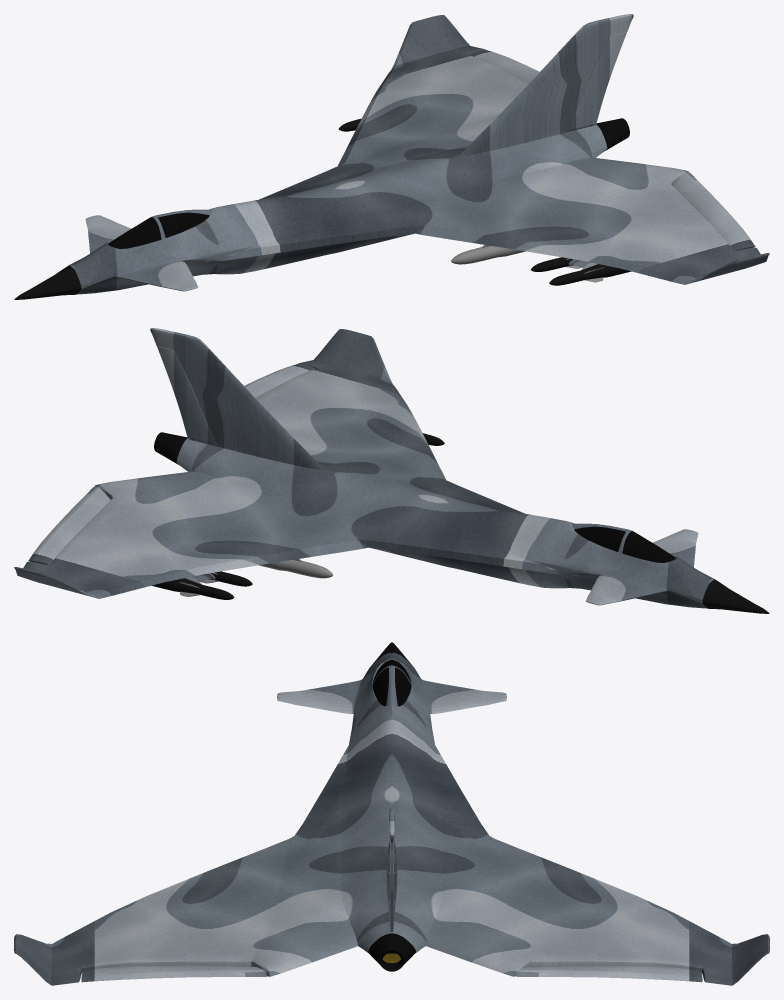
The model's file is mergedjet.obj.
3 views of the same model, one above another, from view 1: azimuth 30°, elevation 25°; view 2: azimuth 150°, elevation 25°; view 3: azimuth 270°, elevation 25° (orthographic). The views are drawn at different scales.
Visible parts, largest first — view 1: Circle; view 2: Circle; view 3: Circle.
Boxes of the visible parts, x1=… form: Circle: x1=14, y1=14, x2=769, y2=299; Circle: x1=14, y1=328, x2=769, y2=613; Circle: x1=14, y1=642, x2=769, y2=985.
Bounding box in the file's own units: 12.35 × 3.09 × 11.23.
11 materials, 2 textured.
